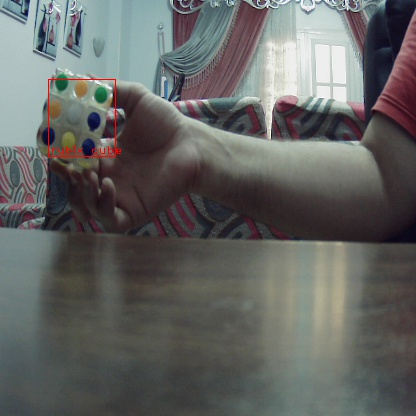Rubix Cube: (40, 71, 115, 158)
